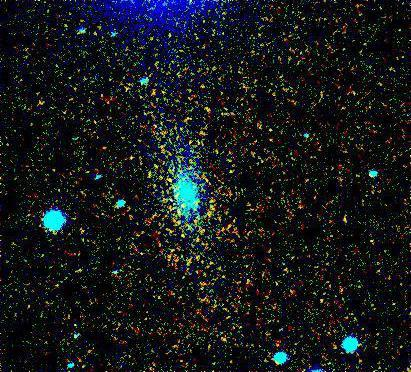star: (164, 186, 194, 216)
